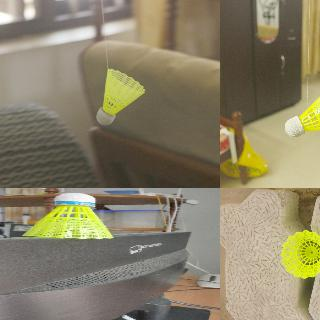shuttlecock: (21, 193, 113, 239), (96, 69, 144, 125), (280, 230, 319, 279), (284, 87, 319, 138)
